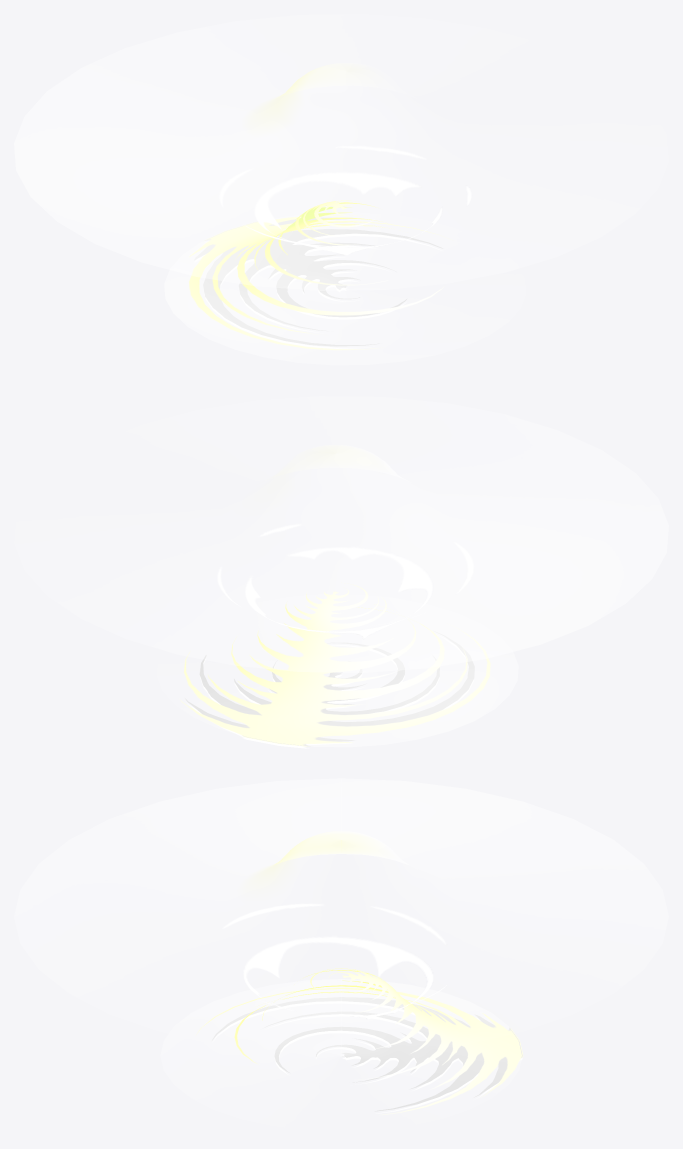
The model's file is healing_blast.gltf.
The picture shows the model from 3 angles, top to bottom: view 1: azimuth 30°, elevation 25°; view 2: azimuth 150°, elevation 25°; view 3: azimuth 270°, elevation 25°; orthographic projection.
Visible parts, largest first — view 1: QuadObject.001, QuadObject, QuadObject.003, QuadObject.002, QuadObject.006, QuadObject.004; view 2: QuadObject.001, QuadObject, QuadObject.003, QuadObject.002, QuadObject.006, QuadObject.004; view 3: QuadObject.001, QuadObject, QuadObject.003, QuadObject.002, QuadObject.006, QuadObject.004.
Boxes of the visible parts, x1,y1,x2,y2 form: QuadObject.001: (14, 15, 639, 290); QuadObject: (164, 232, 509, 364); QuadObject.003: (189, 200, 448, 350); QuadObject.002: (194, 217, 442, 346); QuadObject.006: (219, 146, 471, 255); QuadObject.004: (195, 220, 441, 348); QuadObject.001: (58, 396, 668, 672); QuadObject: (181, 628, 518, 746); QuadObject.003: (180, 585, 490, 746); QuadObject.002: (185, 631, 474, 746); QuadObject.006: (217, 524, 473, 638); QuadObject.004: (186, 636, 473, 748); QuadObject.001: (14, 778, 668, 996); QuadObject: (160, 979, 522, 1099); QuadObject.003: (196, 968, 523, 1114); QuadObject.002: (212, 997, 522, 1111); QuadObject.006: (222, 903, 447, 1019); QuadObject.004: (213, 1001, 522, 1113).
Bounding box in the file's own units: 5.06 × 1.87 × 5.06.
6 materials, 6 textured.
